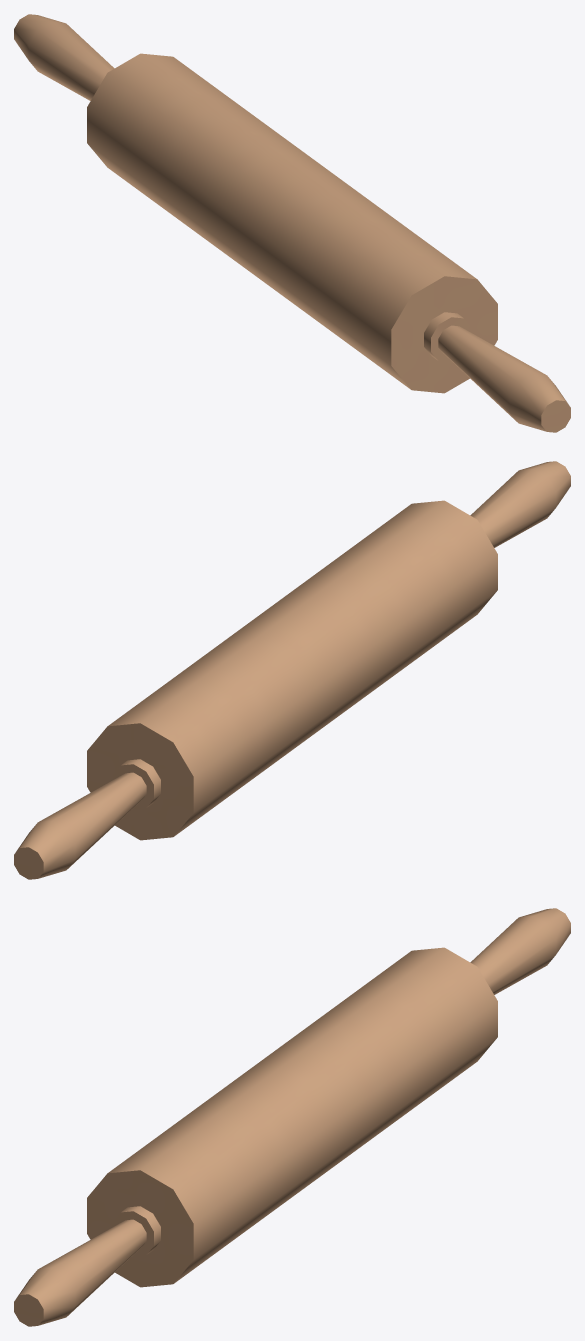
The model's file is Rolling_Pin.fbx.
3 views of the same model, one above another, from view 1: azimuth 30°, elevation 25°; view 2: azimuth 150°, elevation 25°; view 3: azimuth 330°, elevation 25° (orthographic).
Parts seen in each view (by area): view 1: Rolling_Pin; view 2: Rolling_Pin; view 3: Rolling_Pin.
Boxes of the visible parts, x1,y1,x2,y2 form: Rolling_Pin: [14, 14, 570, 432]; Rolling_Pin: [14, 461, 570, 879]; Rolling_Pin: [14, 908, 570, 1326].
Size of the model in its own units: 0.0733 by 0.0771 by 0.6285.
